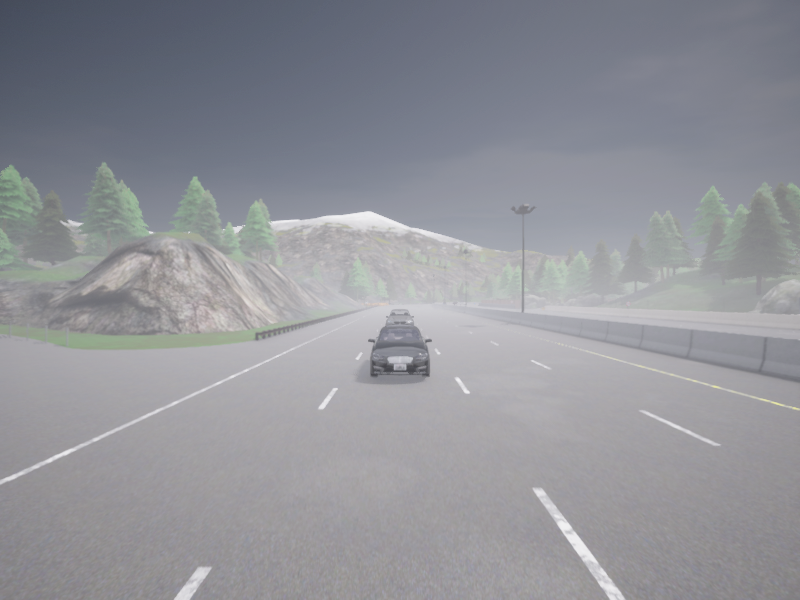vehicle: (368, 325, 431, 377), (386, 309, 413, 325), (460, 301, 464, 304), (454, 301, 457, 304), (443, 302, 446, 304), (473, 302, 475, 304)
